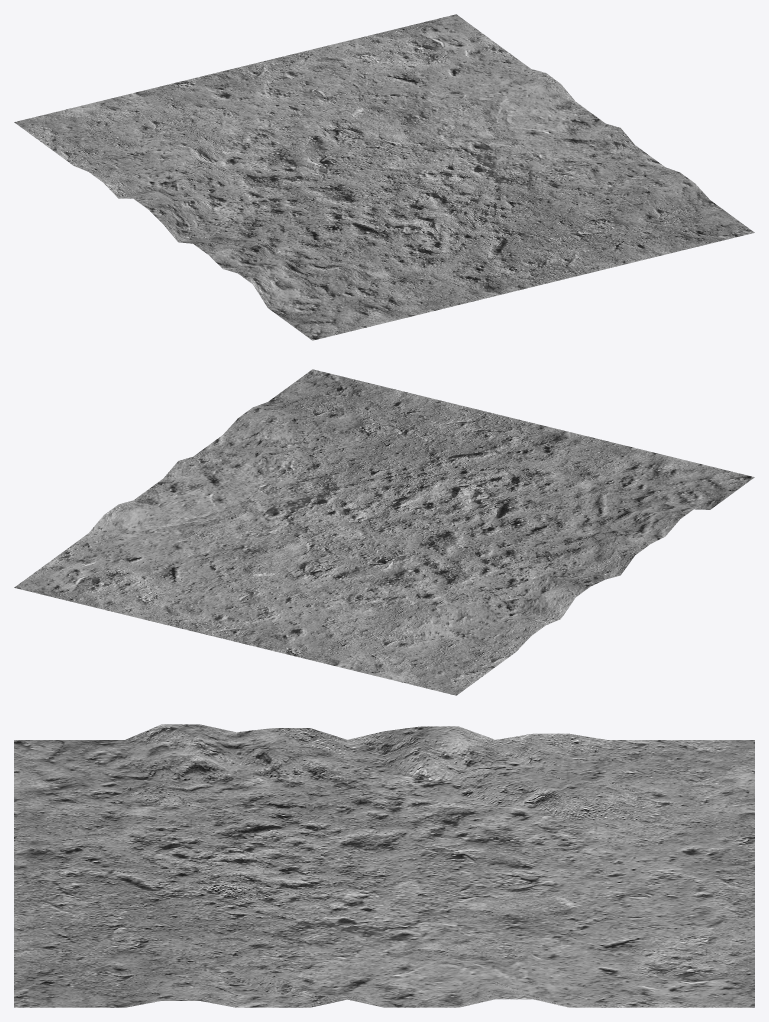
The model's file is moon_floor.obj.
3 views of the same model, one above another, from view 1: azimuth 30°, elevation 25°; view 2: azimuth 150°, elevation 25°; view 3: azimuth 270°, elevation 25° (orthographic). The views are drawn at different scales.
Visible parts, largest first — view 1: moon_floor:pPlane1; view 2: moon_floor:pPlane1; view 3: moon_floor:pPlane1.
Part boxes in pixels (box(x1,y1,x2,y2)): moon_floor:pPlane1: box(14, 14, 754, 340); moon_floor:pPlane1: box(14, 369, 754, 695); moon_floor:pPlane1: box(14, 724, 754, 1007).
Bounding box in the file's own units: 38.34 × 1.06 × 44.82.
